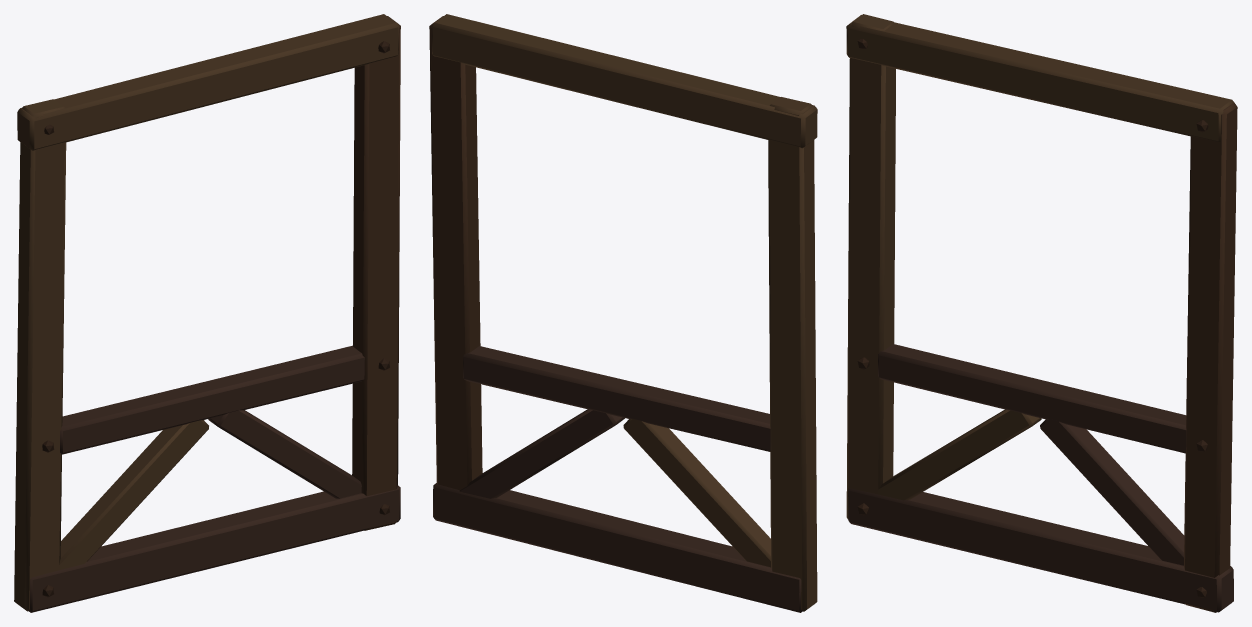
Rendered from timber_bay.glb.
The picture shows the model from 3 angles, left to right: view 1: azimuth 30°, elevation 25°; view 2: azimuth 150°, elevation 25°; view 3: azimuth 330°, elevation 25°; orthographic projection.
Parts seen in each view (by area): view 1: timber_bay; view 2: timber_bay; view 3: timber_bay.
Boxes of the visible parts, <box> form: timber_bay: <box>14,14,400,612</box>; timber_bay: <box>429,14,817,612</box>; timber_bay: <box>846,14,1237,612</box>.
Bounding box in the file's own units: 2.54 × 3.22 × 0.2256.
